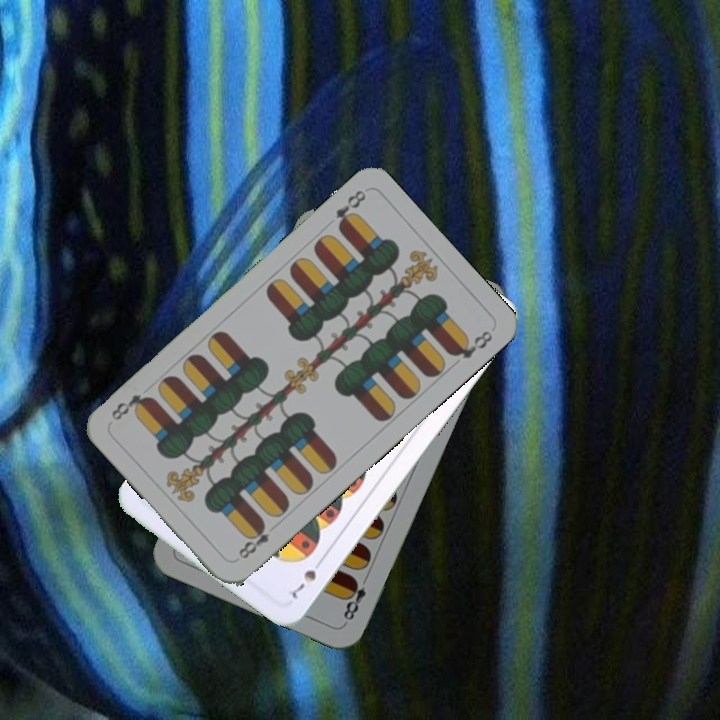E8: (234, 518, 280, 562), (339, 570, 372, 626), (331, 185, 369, 233)
S7: (284, 553, 327, 601)
